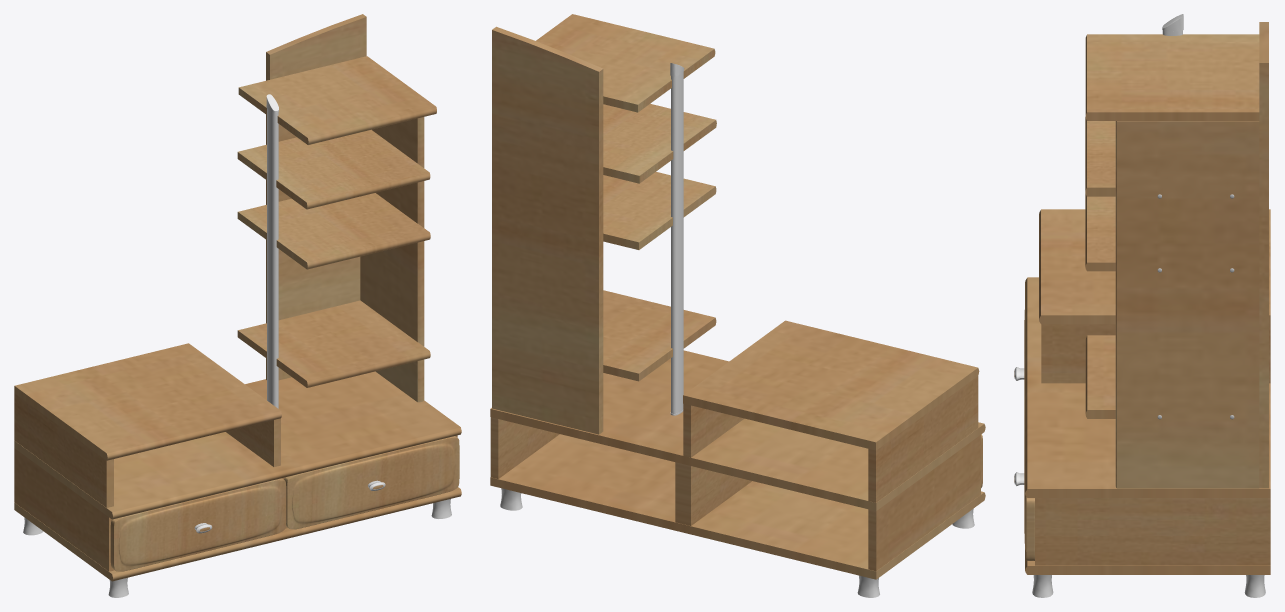
File: sh_blend_swap_cc_0_televisioncabinet.glb
3 views of the same model, side by side, from view 1: azimuth 30°, elevation 25°; view 2: azimuth 150°, elevation 25°; view 3: azimuth 270°, elevation 25° (orthographic). The views are drawn at different scales.
Size of the model in its own units: 1.35 by 1.6 by 0.693.
Materials: 14 (12 with a texture image).
